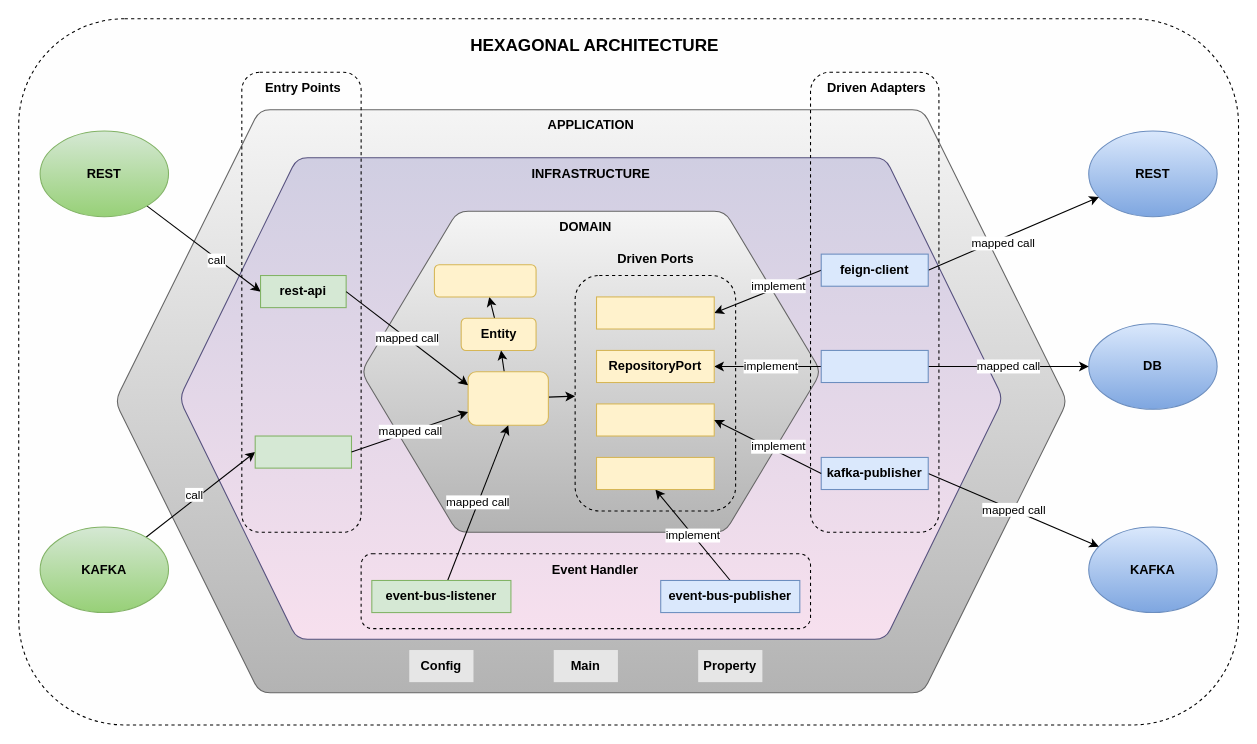
Some shapes in this 1257 by 744 pixel diagram are drawn without their labels. Here are the shapes that lost their labels. From the top down, the box of each, then its label:
(433, 264, 536, 297): ValueObject
(595, 296, 714, 329): ClientPort
(820, 349, 928, 383): jpa-repository
(467, 371, 548, 425): UseCase
(595, 403, 714, 436): EventPort
(254, 435, 351, 468): kafka-listener
(595, 456, 714, 490): EventBusPort
